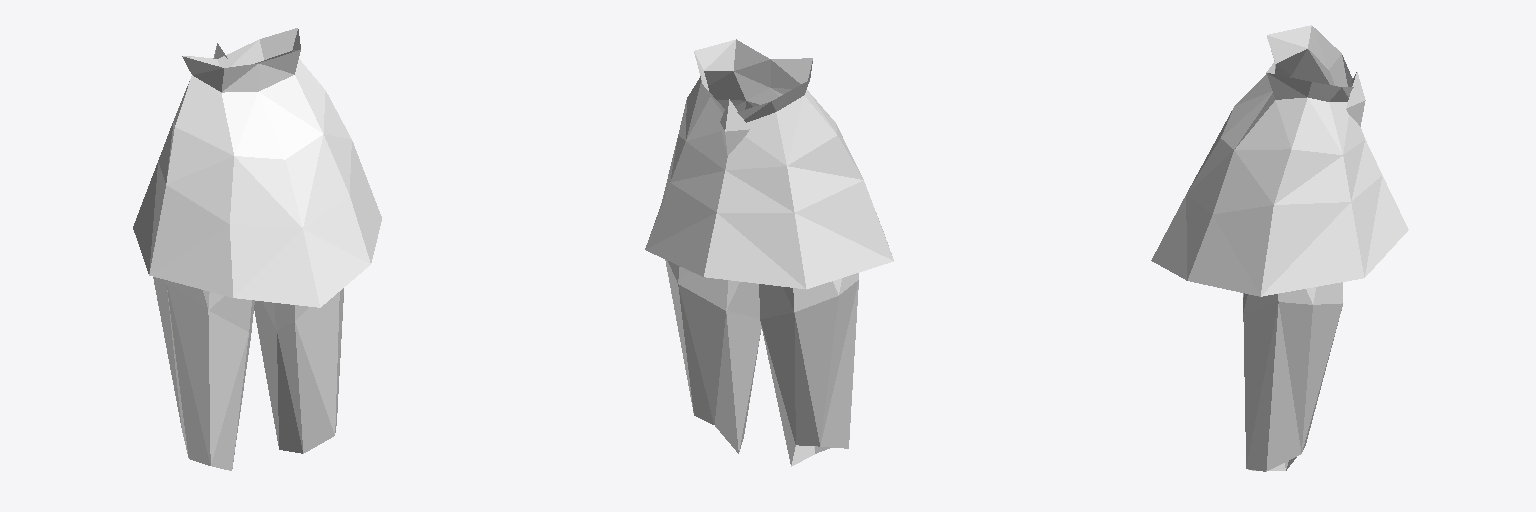
File: 2_mi_pants_17.obj
3 renders of one model, left to right at view 1: azimuth 30°, elevation 25°; view 2: azimuth 150°, elevation 25°; view 3: azimuth 270°, elevation 25°, orthographic.
Visible parts, largest first — view 1: defaultobject; view 2: defaultobject; view 3: defaultobject.
Part boxes in pixels (left/top/right/bottom): defaultobject: left=133, top=28, right=381, bottom=470; defaultobject: left=645, top=39, right=893, bottom=466; defaultobject: left=1151, top=25, right=1408, bottom=471.
Bounding box in the file's own units: 12.09 × 20.05 × 11.57.